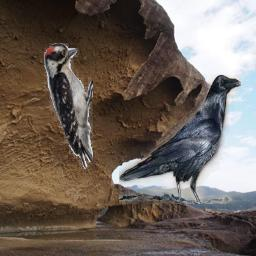Crow: (119, 74, 241, 204)
Woodpecker: (44, 43, 93, 171)
